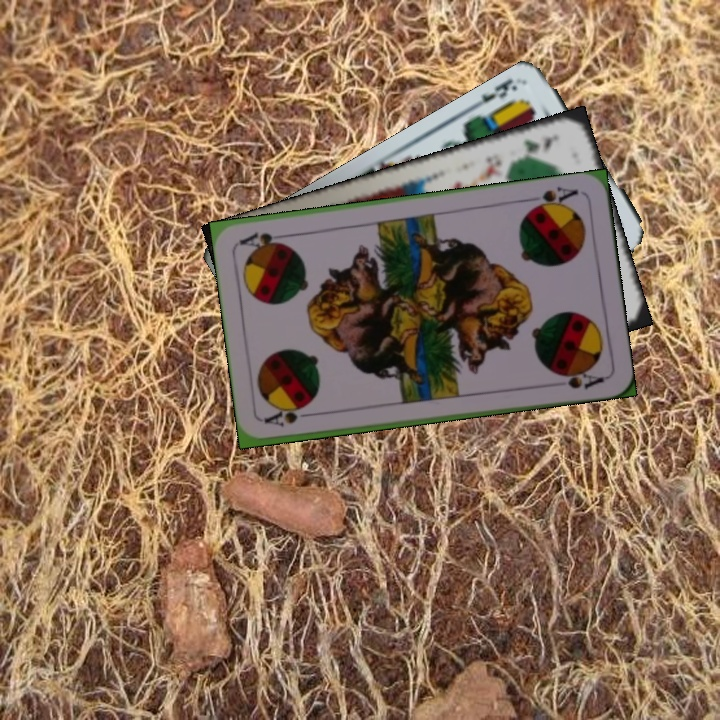EK: (477, 73, 530, 107)
GK: (511, 131, 563, 163)
SA: (524, 182, 581, 213), (261, 404, 320, 430)
